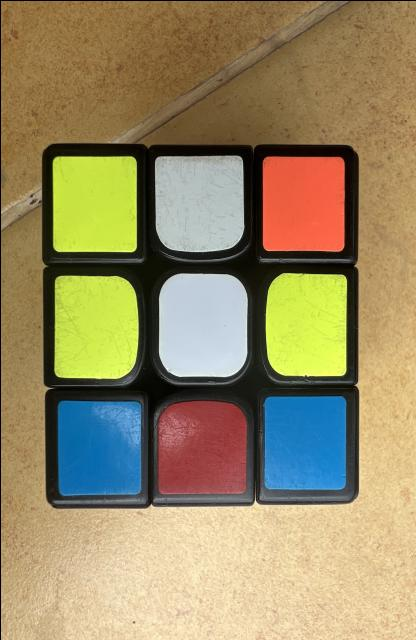Blue: (56, 399, 141, 495), (263, 395, 346, 489)
Orange: (262, 155, 343, 251)
Red: (157, 399, 246, 494)
White: (157, 272, 247, 376), (154, 155, 244, 251)
Yellow: (53, 275, 138, 378), (264, 272, 347, 375), (51, 155, 136, 251)
